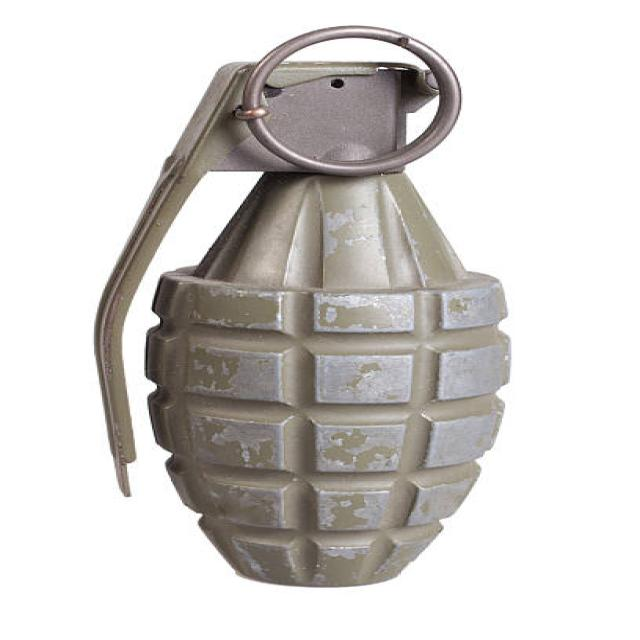grenade: (64, 21, 540, 598)
